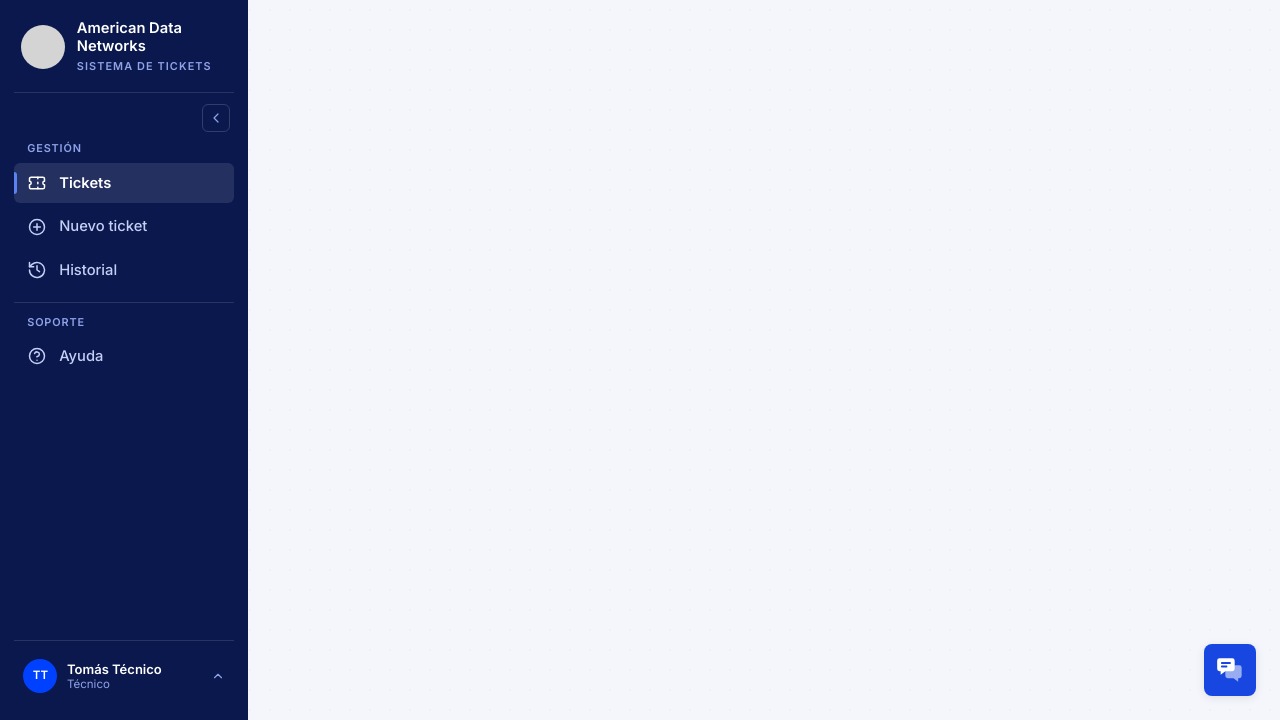
Asistente virtual › pregunta y muestra la respuesta exacta por partes, con enlaces a /tickets/N
The image size is (1280, 720).
Click the button named "Abrir asistente virtual": point(1230, 670) 1204,644 -> 1256,696
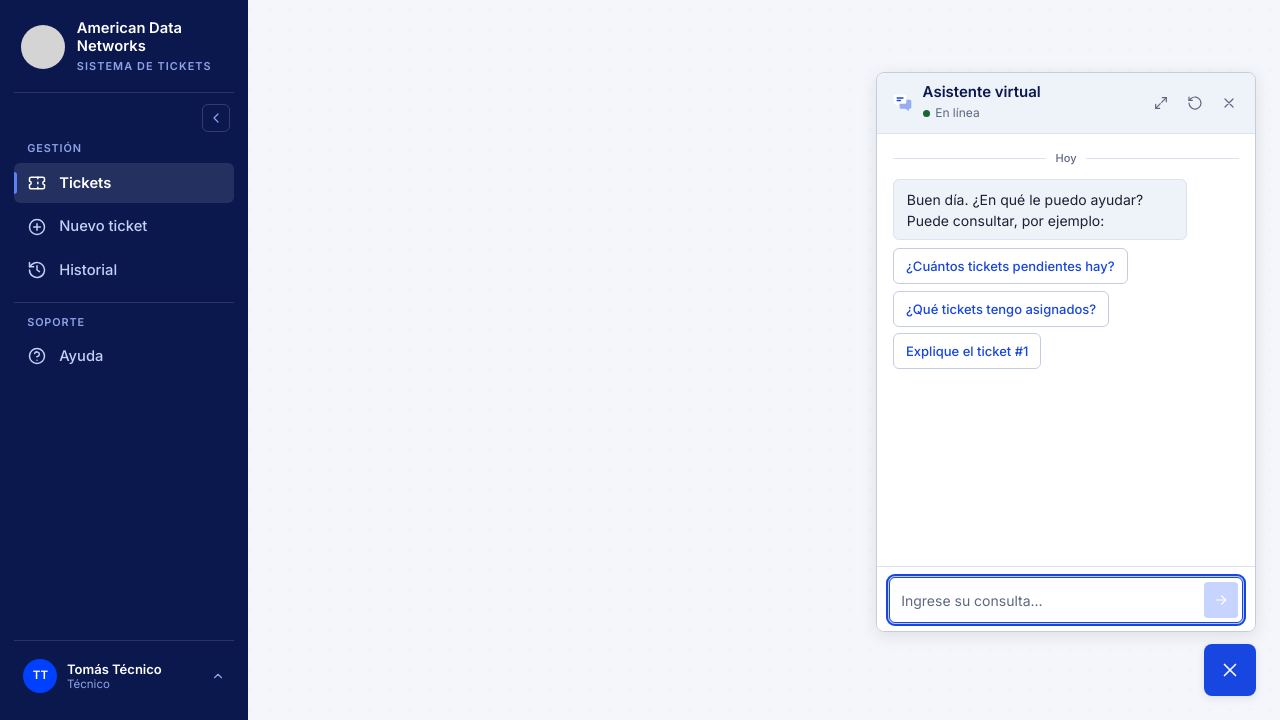
In the text box labelled "su consulta": point(1049, 601) 901,584 -> 1198,618, type "¿Cuántos hay?"
Then press Enter
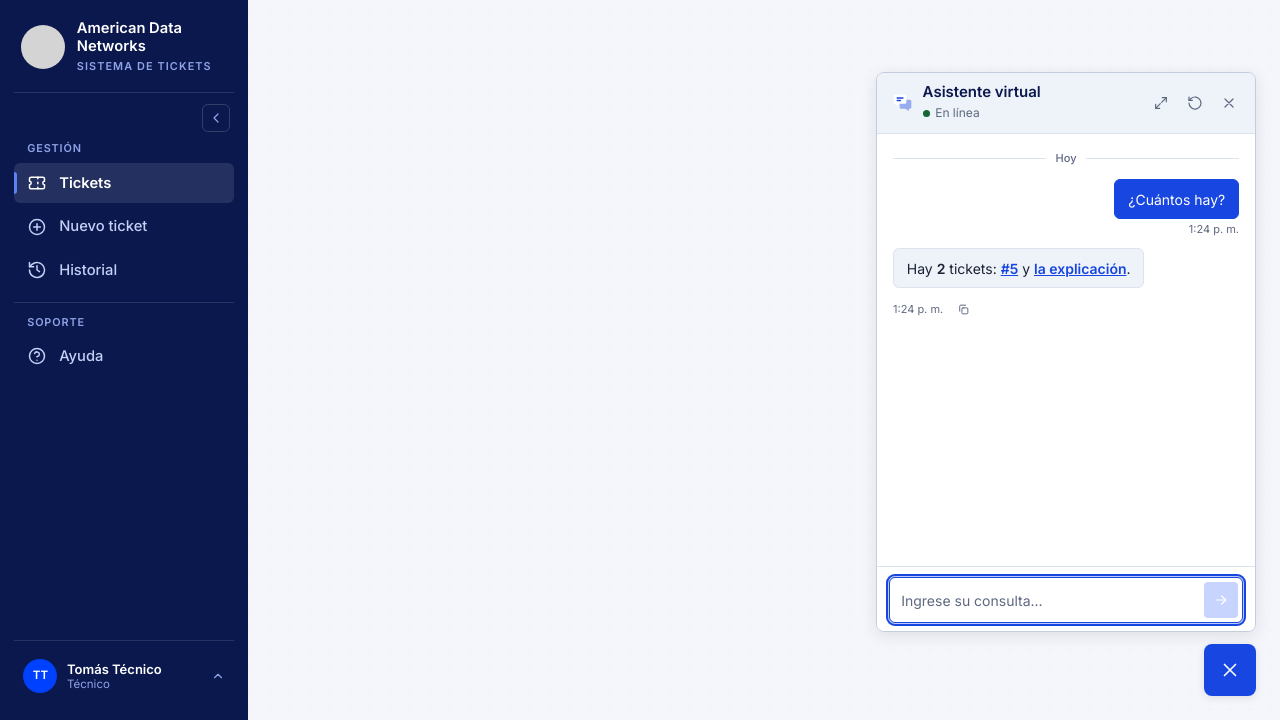
Result: the text "Hay 2 tickets: #5 y la explicación ." is shown at 907,258 -> 1131,279
Result: the button named "Copiar respuesta" is shown at 951,292 -> 976,328
